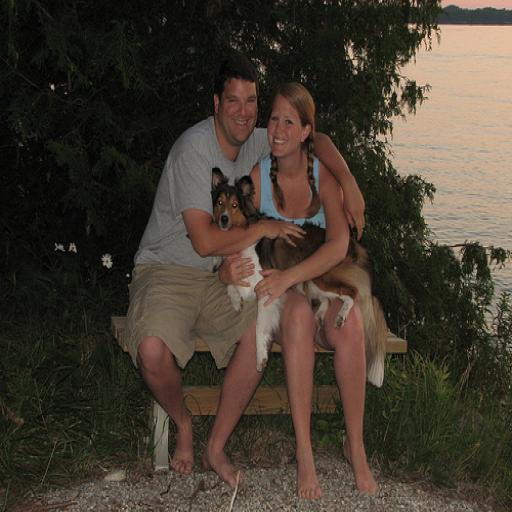dog_face: (210, 166, 258, 238)
